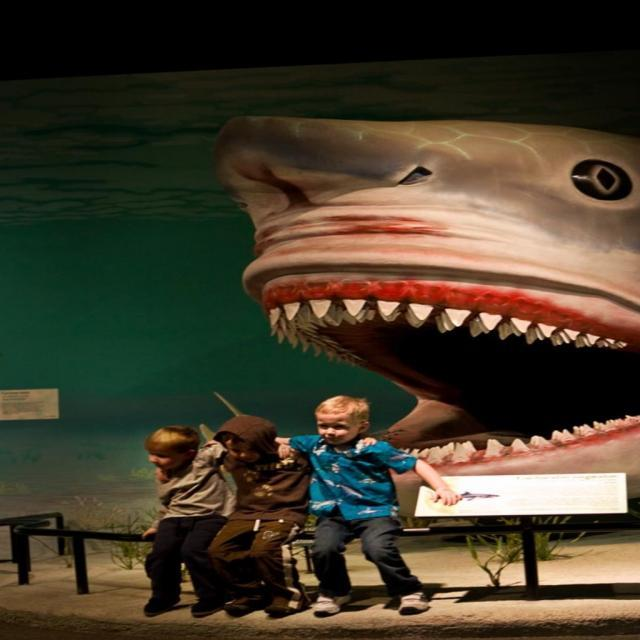Shark: (207, 117, 638, 523)
